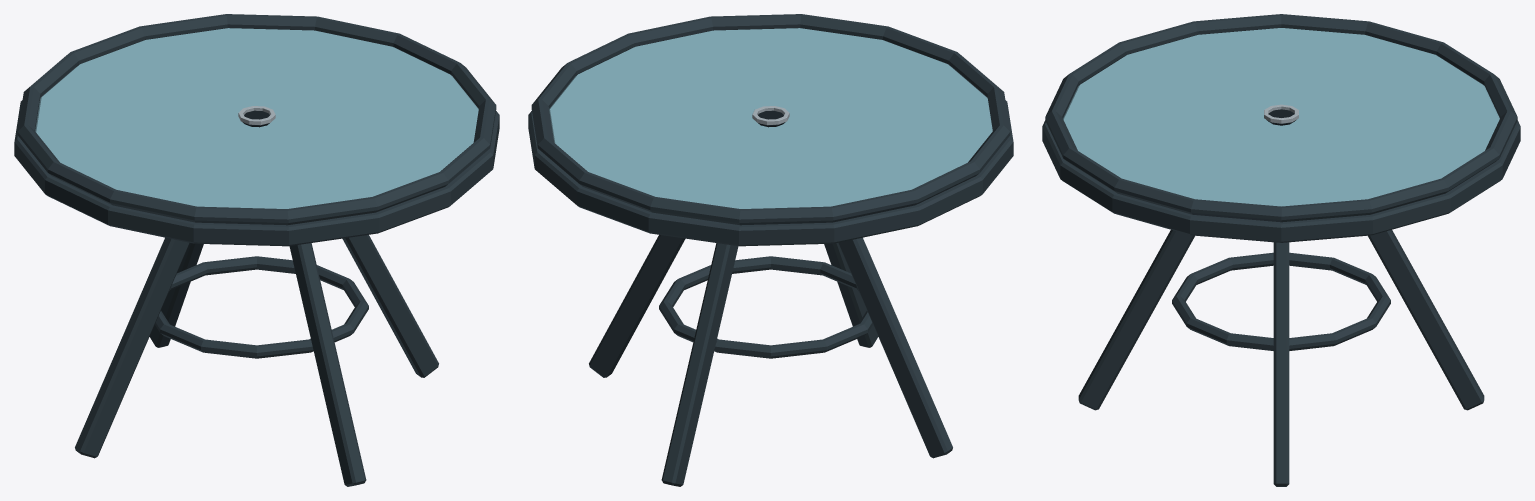
The model's file is b11_round_patio_dining_table.glb.
3 renders of one model, left to right at view 1: azimuth 30°, elevation 25°; view 2: azimuth 150°, elevation 25°; view 3: azimuth 270°, elevation 25°, orthographic. The views are drawn at different scales.
Parts seen in each view (by area): view 1: b11_round_patio_dining_table; view 2: b11_round_patio_dining_table; view 3: b11_round_patio_dining_table.
Part boxes in pixels (left/top/right/bottom): b11_round_patio_dining_table: left=14, top=14, right=499, bottom=486; b11_round_patio_dining_table: left=528, top=14, right=1013, bottom=486; b11_round_patio_dining_table: left=1042, top=14, right=1520, bottom=486.
Bounding box in the file's own units: 1.16 × 0.7948 × 1.16.
